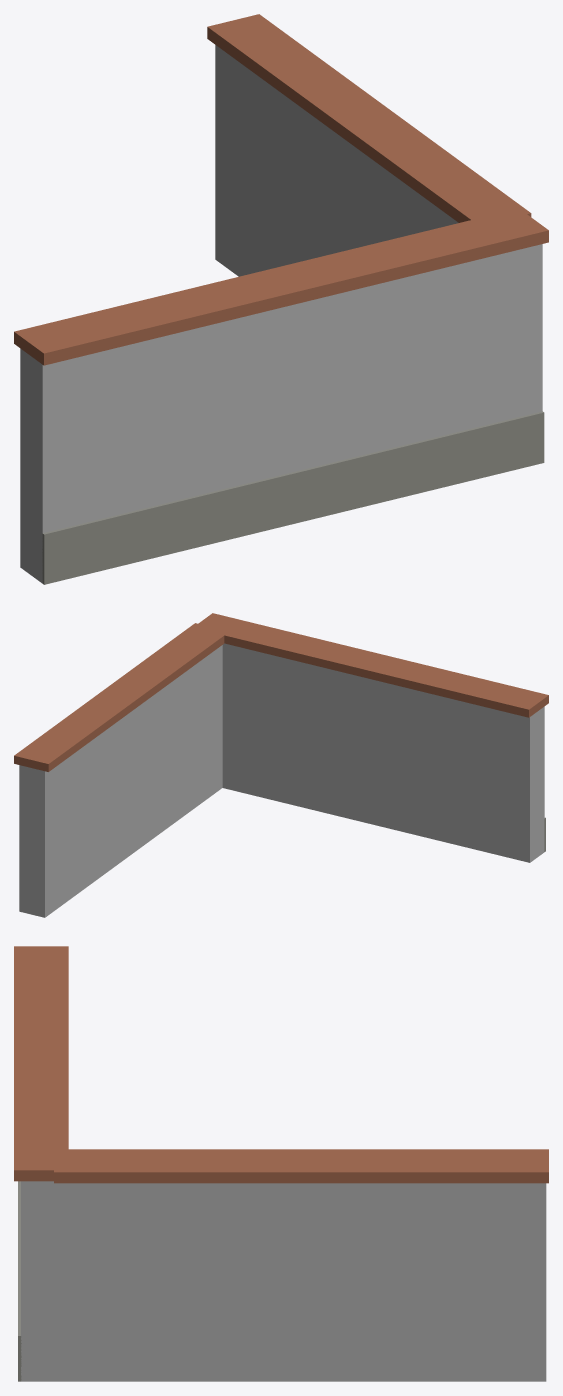
The model's file is SM_Tapia_v1_Esquina_LOD0.fbx.
The picture shows the model from 3 angles, top to bottom: view 1: azimuth 30°, elevation 25°; view 2: azimuth 150°, elevation 25°; view 3: azimuth 270°, elevation 25°; orthographic projection. The views are drawn at different scales.
Parts seen in each view (by area): view 1: SM_bloques.viveres_nules_v6_LOD0; view 2: SM_bloques.viveres_nules_v6_LOD0; view 3: SM_bloques.viveres_nules_v6_LOD0.
Part boxes in pixels (box(x1,y1,x2,y2)): SM_bloques.viveres_nules_v6_LOD0: box(14, 14, 548, 584); SM_bloques.viveres_nules_v6_LOD0: box(14, 613, 548, 917); SM_bloques.viveres_nules_v6_LOD0: box(14, 946, 548, 1381).
Bounding box in the file's own units: 5.3 × 2.32 × 5.3.
